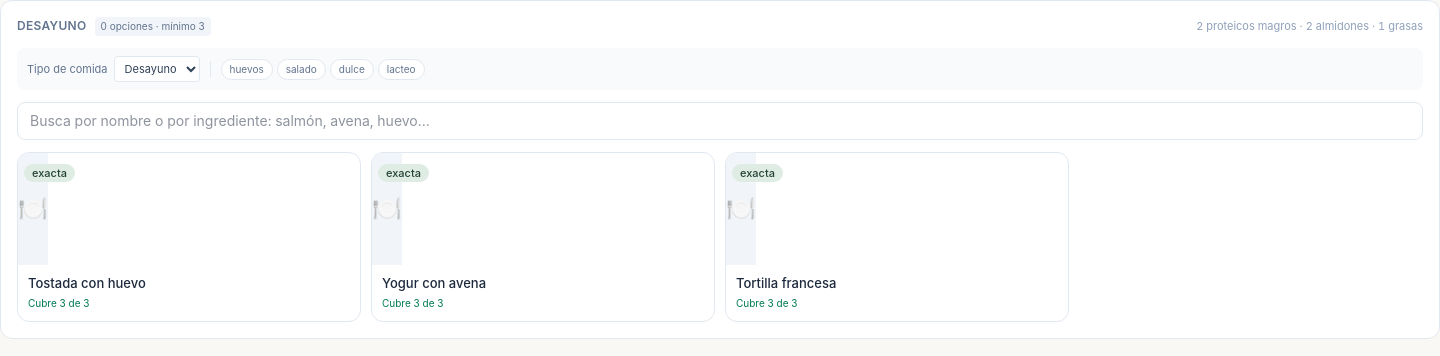
Filtrar las recetas al pautar › al pulsar un tag deja sólo las que lo llevan
Click the button "dulce".
click(352, 69)  # box [330,58,374,80]
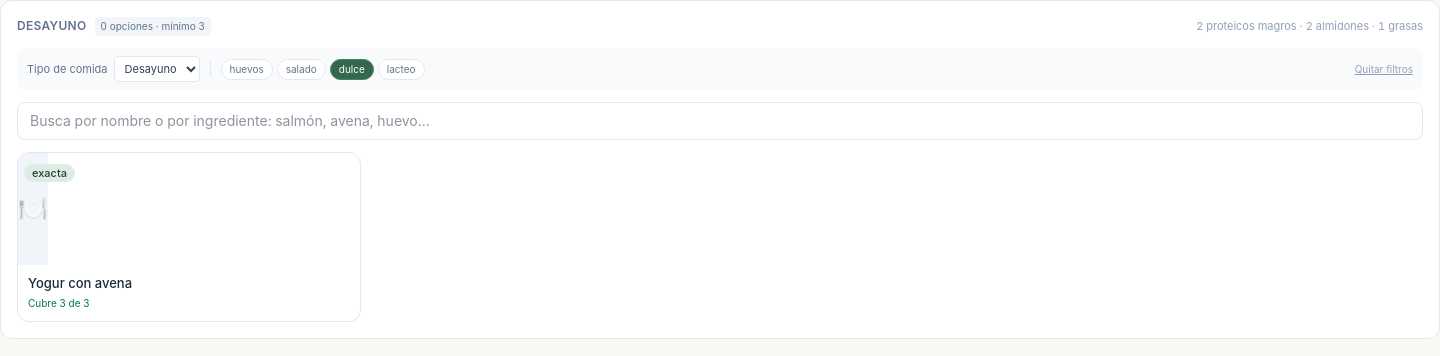
Expected: the text "Yogur con avena" is shown, [28,275,132,293]
Result: the button "Tostada con huevo" is gone
